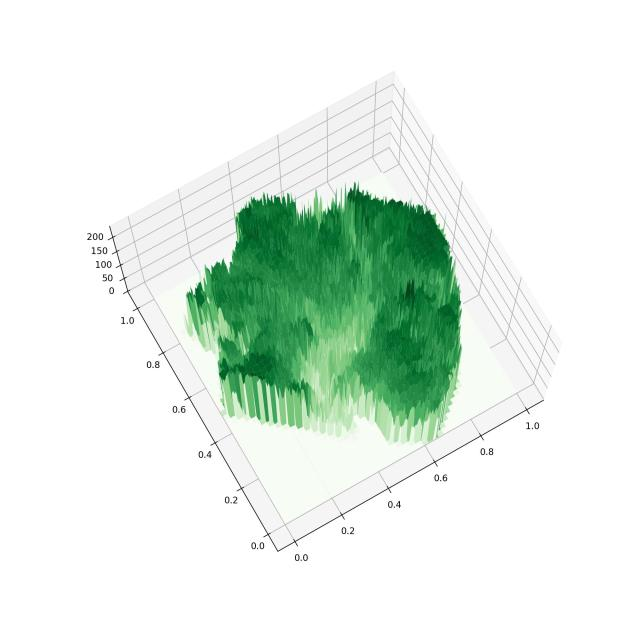trembling aspen: (72, 42, 591, 597)
